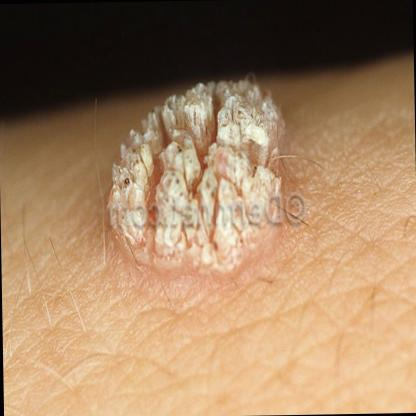Warts: (97, 63, 288, 196)
